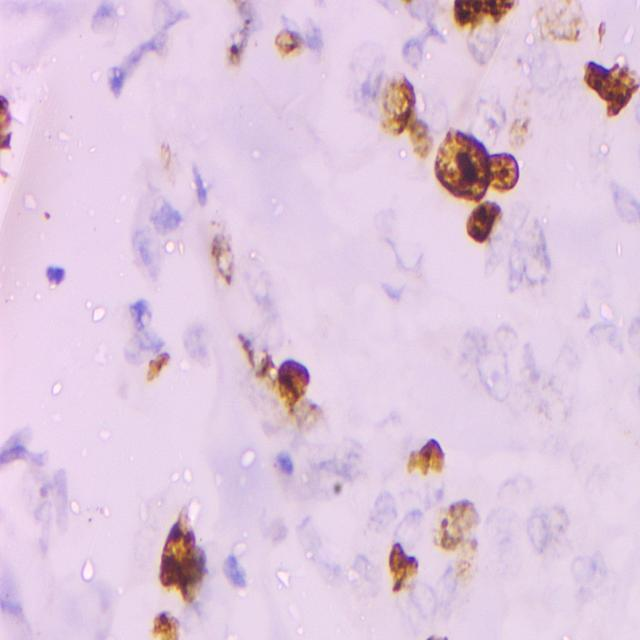Healthy cell: (379, 202, 429, 284), (519, 204, 561, 294), (294, 514, 336, 588), (473, 335, 511, 400), (344, 549, 384, 610), (570, 548, 609, 608), (346, 42, 377, 116), (402, 28, 452, 72), (243, 258, 277, 322), (134, 222, 166, 284), (179, 319, 211, 377), (146, 190, 187, 233), (492, 465, 532, 509), (127, 299, 162, 347), (219, 548, 255, 594), (89, 0, 125, 46), (613, 173, 640, 232), (255, 510, 288, 555), (542, 502, 570, 548), (359, 492, 389, 532), (522, 506, 544, 558), (393, 510, 424, 546), (453, 330, 479, 370), (586, 322, 620, 350), (302, 19, 323, 64), (43, 260, 71, 293), (506, 244, 524, 292), (273, 452, 297, 486), (494, 318, 514, 346)
cancer-cell-QiJm: (227, 329, 282, 405), (433, 130, 490, 203), (276, 346, 322, 429), (522, 0, 582, 62), (449, 90, 501, 154), (203, 213, 242, 292), (226, 0, 260, 76), (438, 496, 486, 549), (384, 70, 416, 141), (460, 199, 506, 246), (163, 509, 192, 583), (484, 143, 522, 198), (603, 62, 640, 116), (455, 543, 491, 598), (398, 434, 447, 474), (389, 543, 423, 600), (506, 89, 536, 150), (0, 89, 20, 178), (186, 542, 214, 604), (446, 0, 512, 23), (137, 348, 179, 384), (408, 112, 436, 166), (143, 604, 181, 640), (588, 12, 620, 52), (37, 199, 66, 237), (152, 139, 178, 178), (577, 59, 609, 90), (276, 22, 302, 56), (396, 0, 422, 20), (326, 472, 345, 496)
